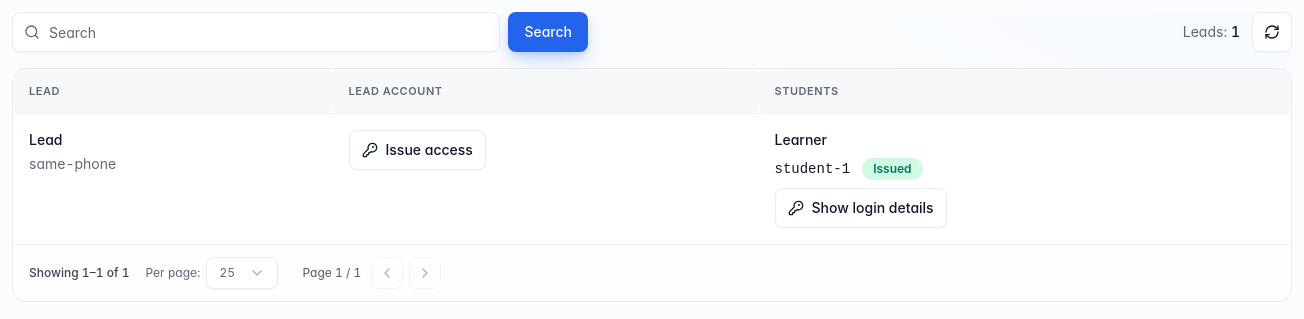
it: restores an empty search from its empty state
Check: the text "same-phone" is shown, box [29, 154, 116, 172]
Type "missing" into the field named "Find a lead, student or login" at (256, 32), box [12, 12, 500, 52]
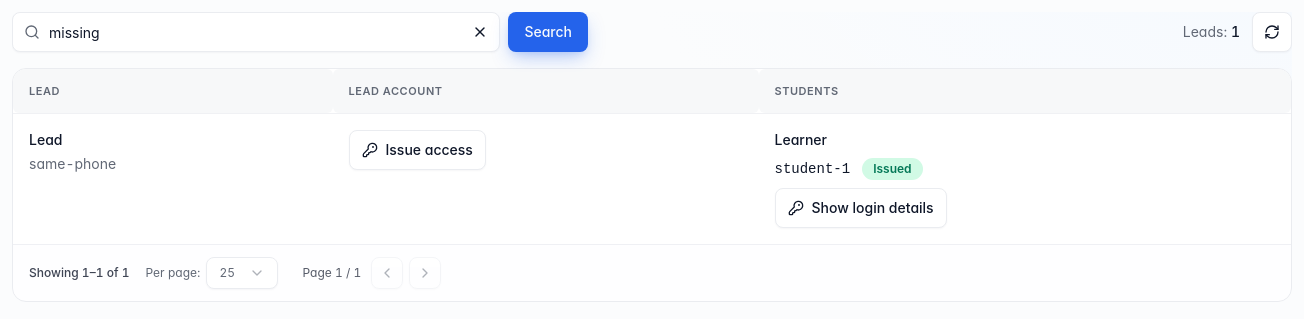
Submit the form, box [12, 12, 588, 52]
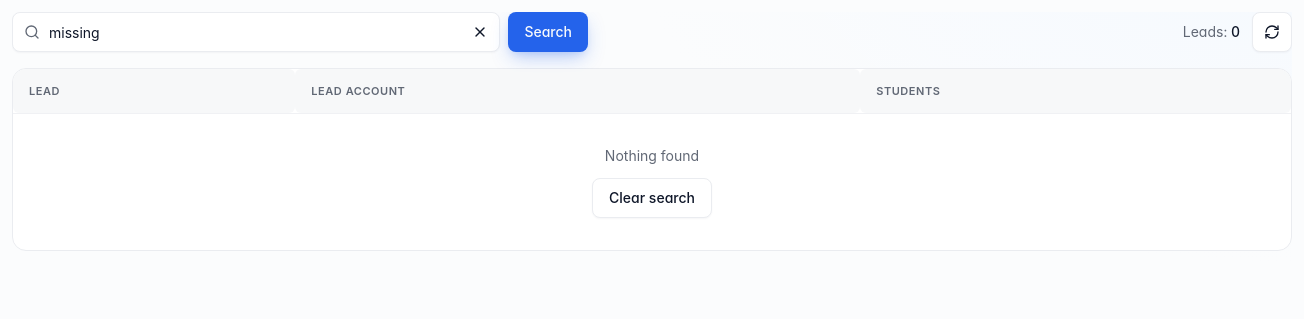
Check: the text "Nothing found" is shown, box [605, 146, 699, 164]
Click the button "Clear search" at (652, 198), box [592, 178, 712, 218]
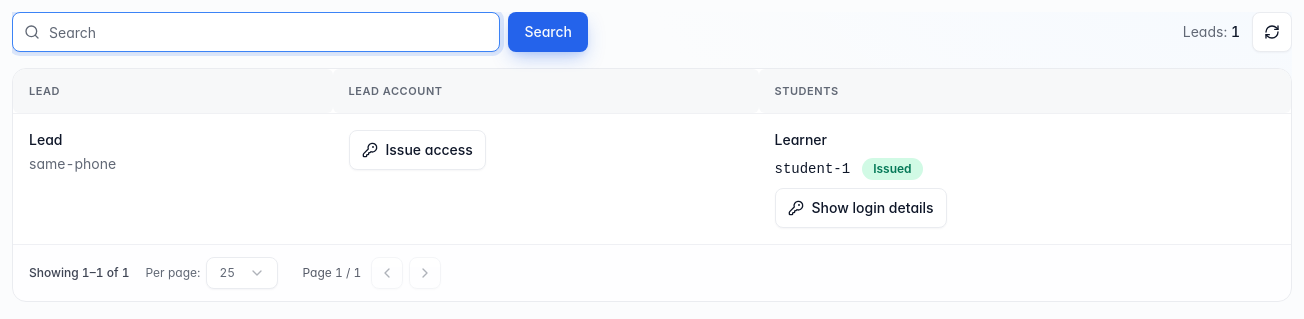
Check: the text "same-phone" is shown, box [29, 154, 116, 172]
